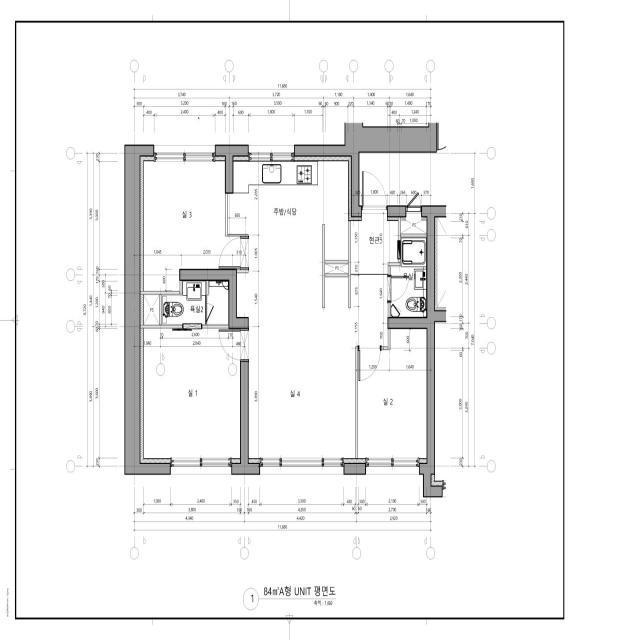background: (0, 0, 640, 640)
space_bedroom: (144, 161, 249, 291), (143, 329, 240, 459), (357, 328, 427, 458)
space_front: (351, 210, 398, 274)
space_kitchen: (227, 161, 348, 317)
space_living_room: (249, 275, 388, 459)
space_other: (359, 152, 437, 206), (401, 212, 427, 234), (143, 295, 160, 325), (325, 264, 348, 273)
space_toilet: (390, 238, 426, 317), (162, 281, 228, 324)
